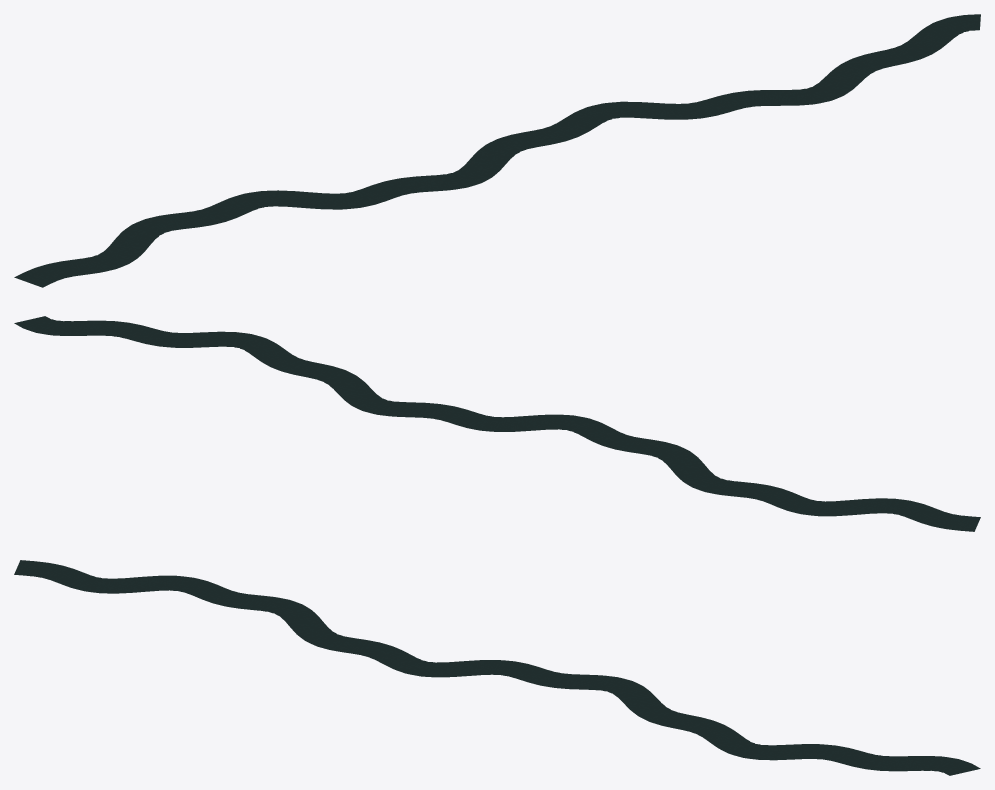
File: SM_River_Water.glb
The picture shows the model from 3 angles, top to bottom: view 1: azimuth 30°, elevation 25°; view 2: azimuth 150°, elevation 25°; view 3: azimuth 330°, elevation 25°; orthographic projection. The views are drawn at different scales.
Visible parts, largest first — view 1: SM_River_Water; view 2: SM_River_Water; view 3: SM_River_Water.
Part boxes in pixels (x1,y1,x2,y2): SM_River_Water: (14,14,980,287); SM_River_Water: (14,316,980,531); SM_River_Water: (14,560,980,775).
Bounding box in the file's own units: 913 × 0 × 89.09.
Materials: 1 (1 with a texture image).
